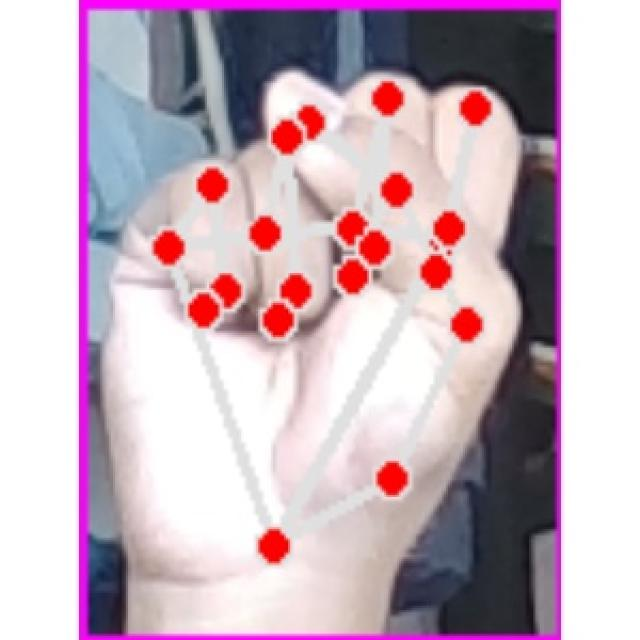S: (103, 28, 530, 594)
